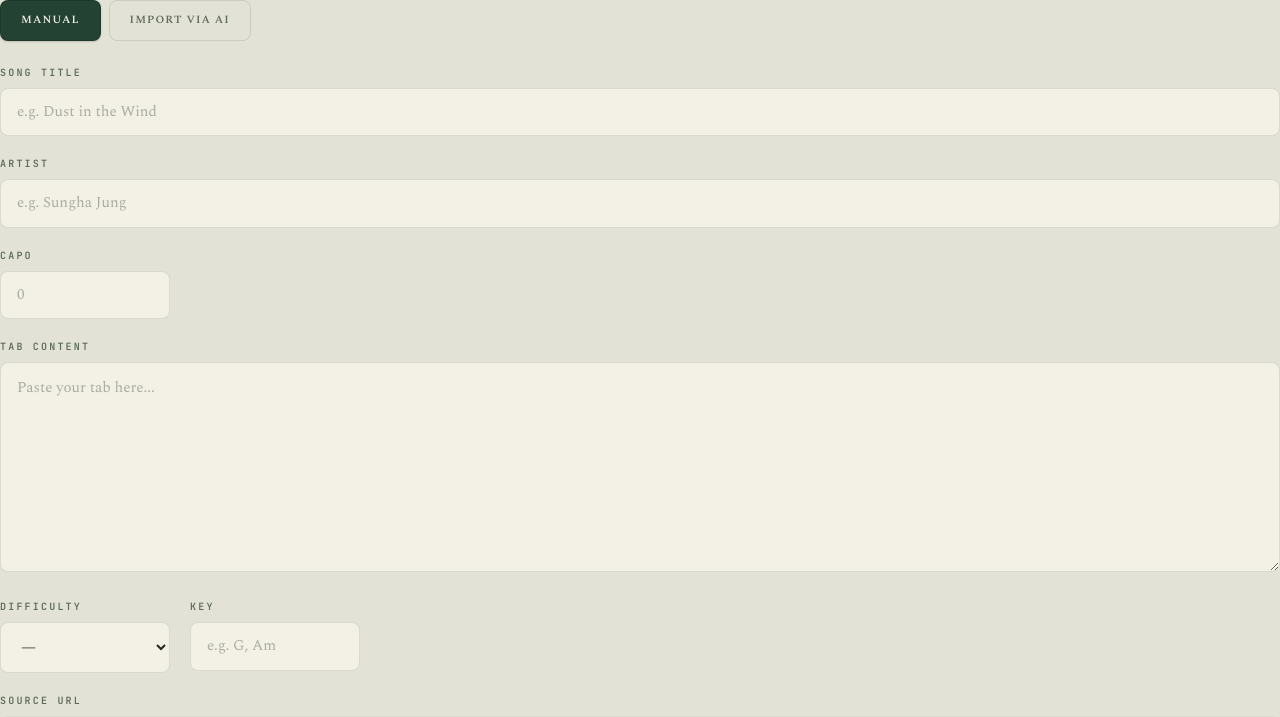
AddPageClient › switches back to manual mode from import
Click the button "Import via AI": (180, 20) [109,0,251,40]
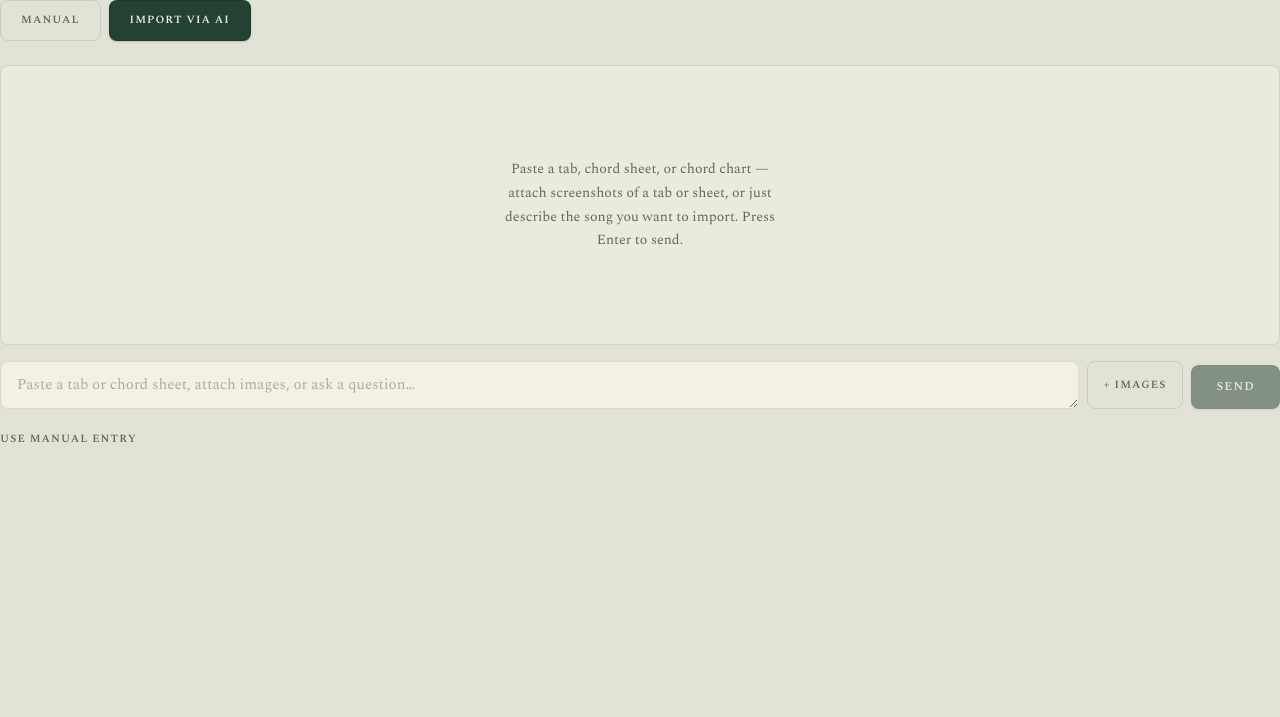
Check: the label labelled "Song Title" is gone
Click the button "Manual": (50, 20) [0,0,101,40]
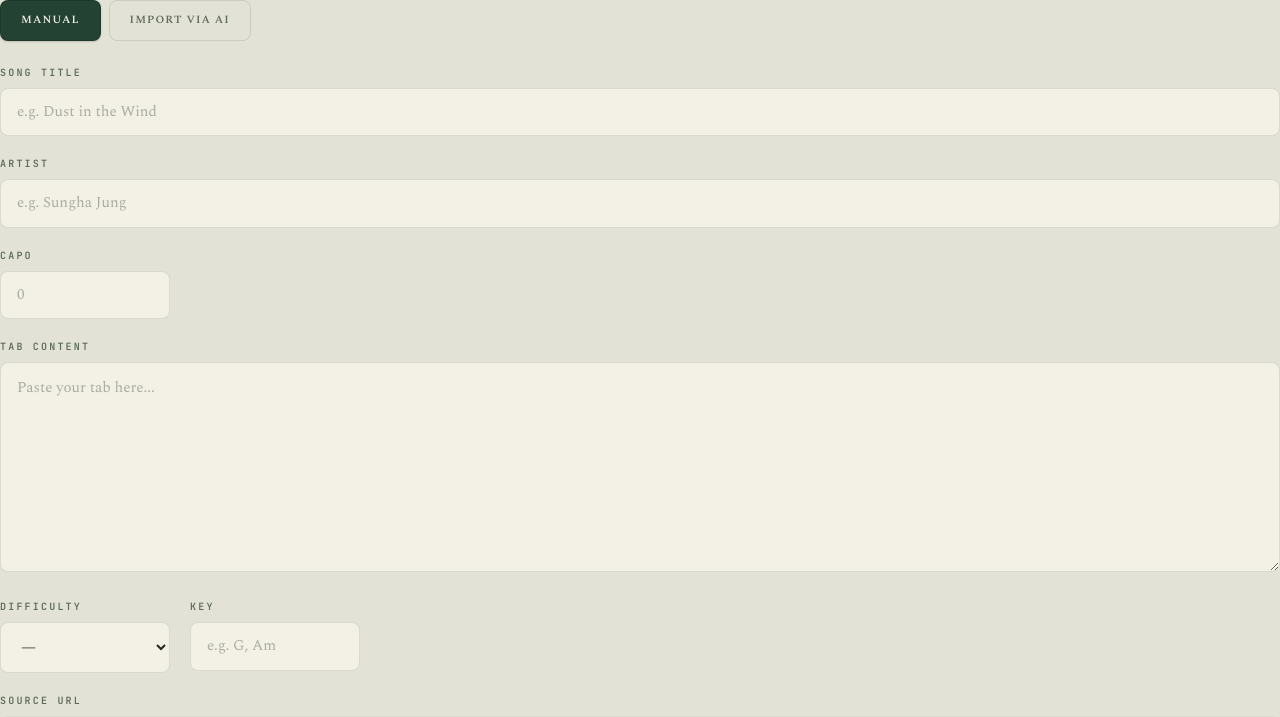
Check: the field labelled "Song Title" is shown, box [0,88,1279,136]
